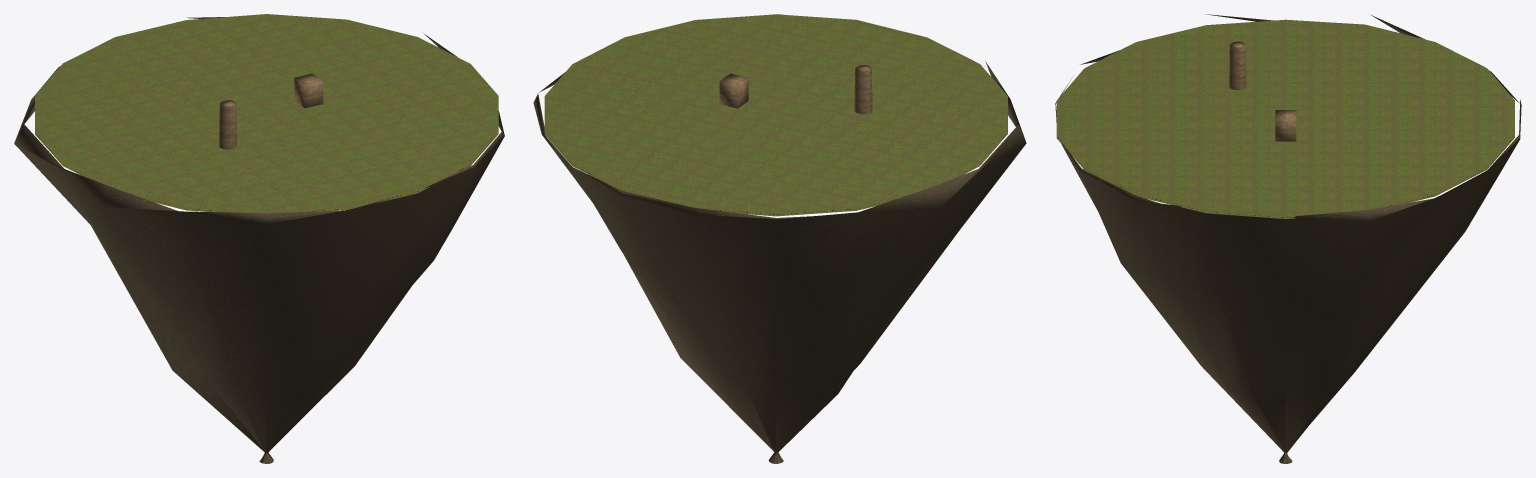
The model's file is sky_island_2.glb.
3 renders of one model, left to right at view 1: azimuth 30°, elevation 25°; view 2: azimuth 150°, elevation 25°; view 3: azimuth 270°, elevation 25°, orthographic.
Visible parts, largest first — view 1: sky_island_2; view 2: sky_island_2; view 3: sky_island_2.
Boxes of the visible parts, x1,y1,x2,y2 form: sky_island_2: (14,14,504,463); sky_island_2: (533,14,1026,463); sky_island_2: (1055,14,1521,463).
Size of the model in its own units: 67.93 by 61.49 by 67.3.
Materials: 3 (3 with a texture image).
